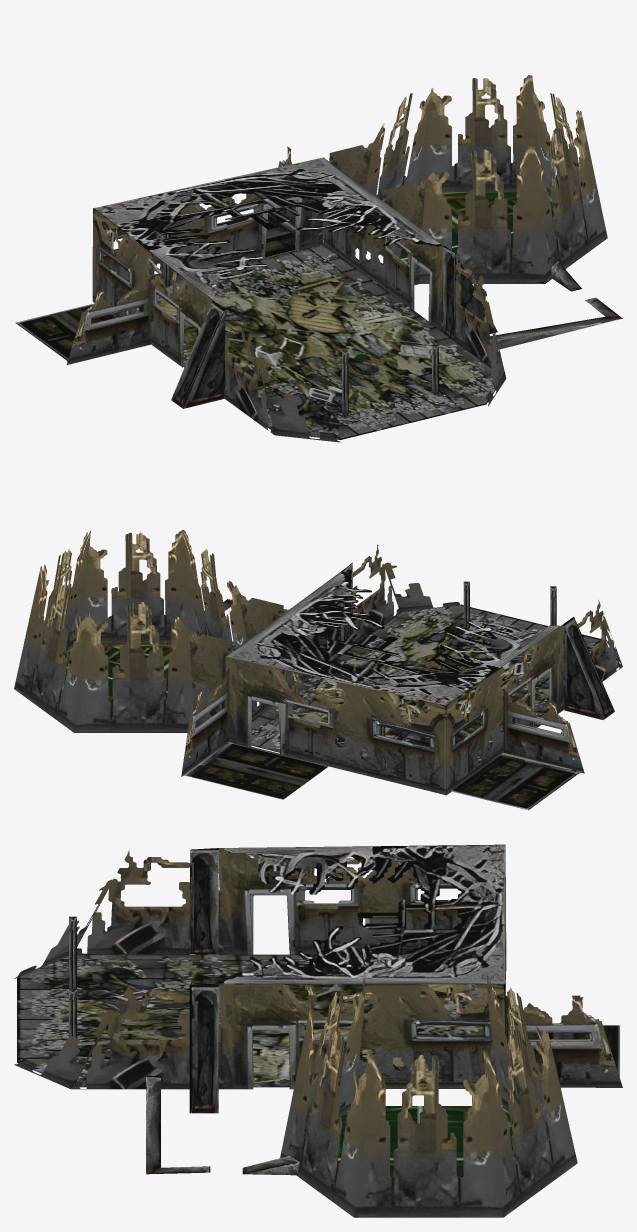
Rendered from d_turretcontrol_dam_hdtex.glb.
3 views of the same model, one above another, from view 1: azimuth 30°, elevation 25°; view 2: azimuth 150°, elevation 25°; view 3: azimuth 270°, elevation 25° (orthographic). The views are drawn at different scales.
Parts seen in each view (by area): view 1: Dturretcontrol; view 2: Dturretcontrol; view 3: Dturretcontrol.
Part boxes in pixels (x1,y1,x2,y2): Dturretcontrol: (15,75,622,442); Dturretcontrol: (14,530,622,810); Dturretcontrol: (14,844,622,1217).
Size of the model in its own units: 24.08 by 8.4 by 19.9.
2 materials, 2 textured.
